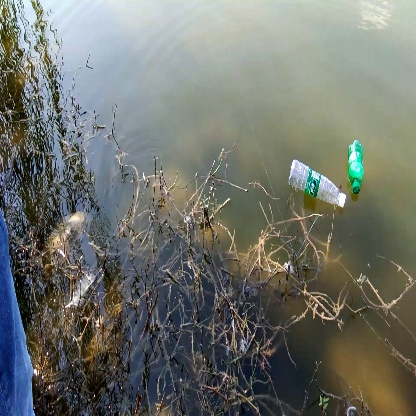bottle: (286, 159, 349, 209), (345, 139, 368, 197)
